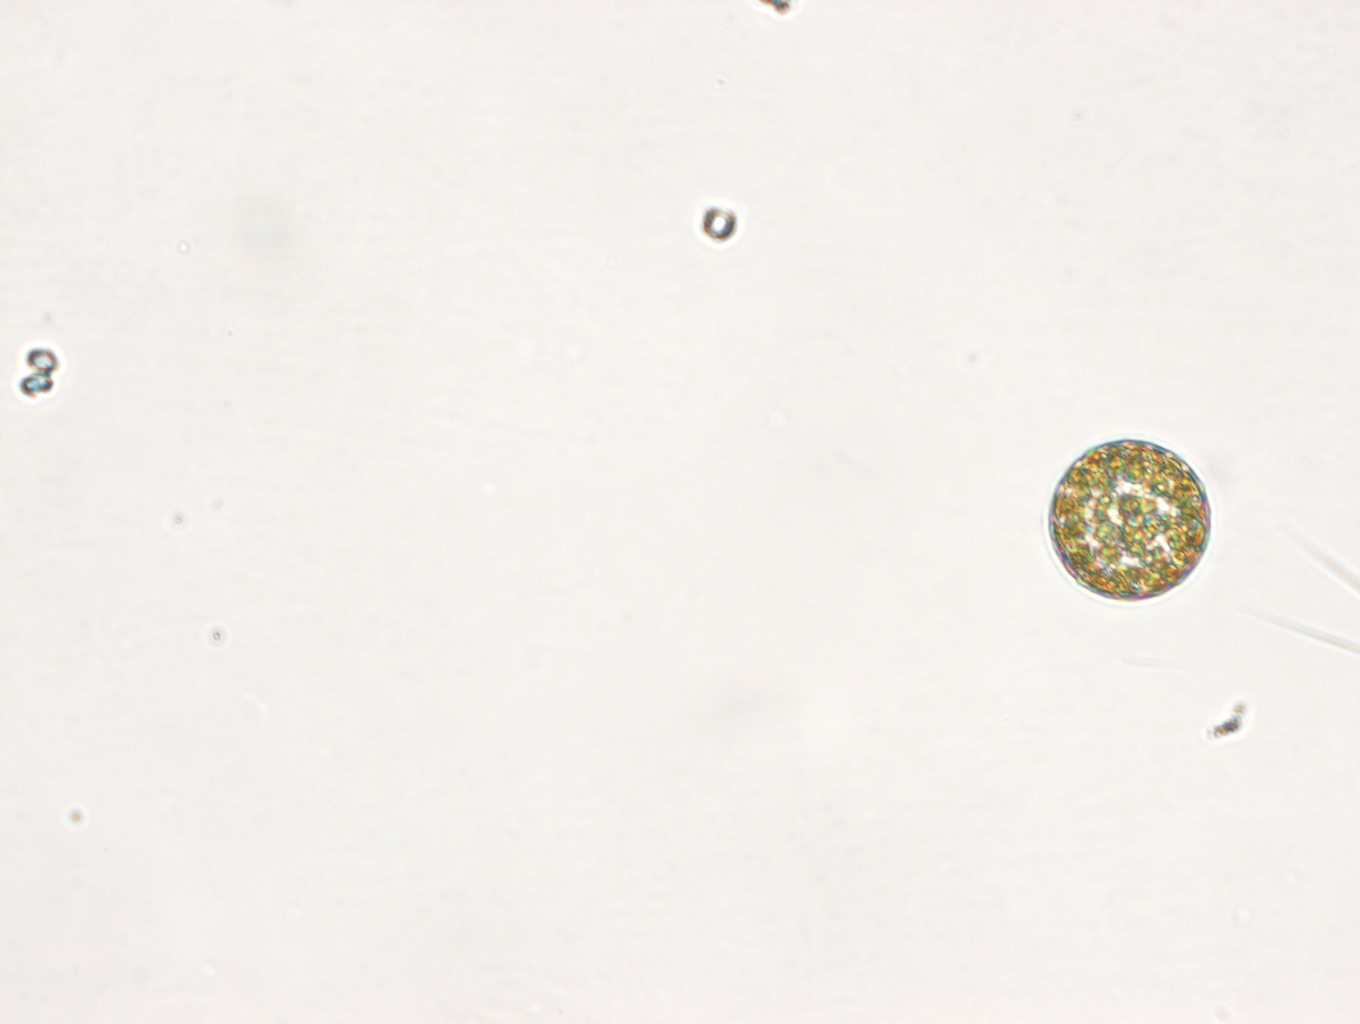coscinodiscus: (1046, 433, 1212, 605)
